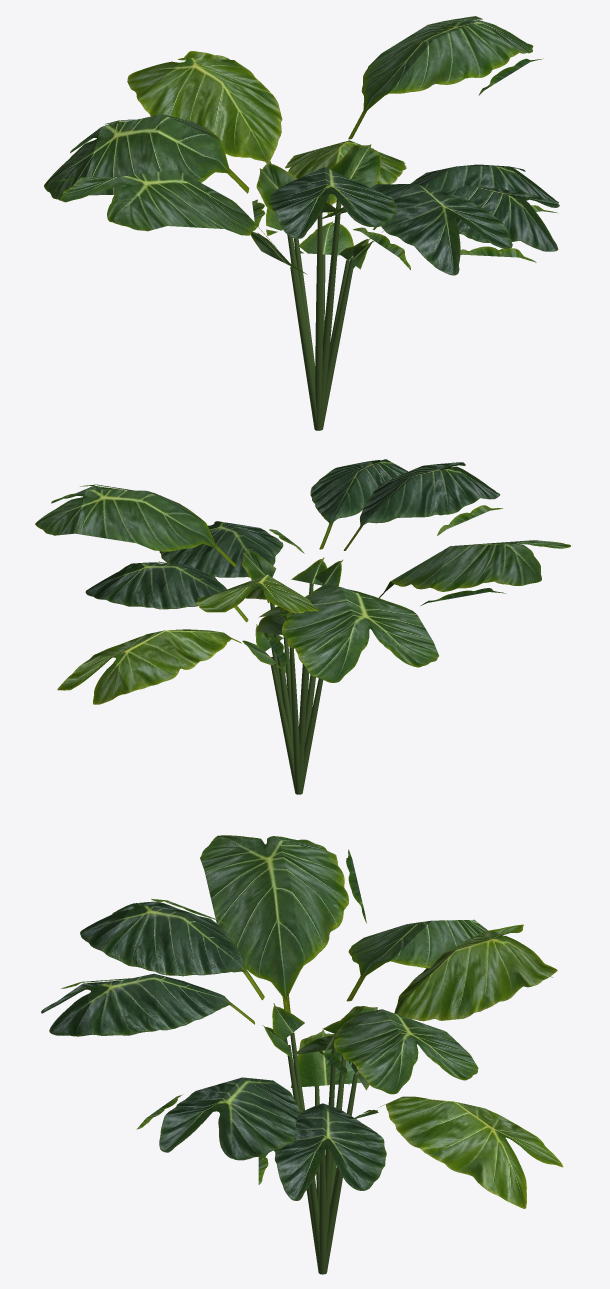
Rendered from broadleaf_02.glb.
3 renders of one model, top to bottom at view 1: azimuth 30°, elevation 25°; view 2: azimuth 150°, elevation 25°; view 3: azimuth 270°, elevation 25°, orthographic. The views are drawn at different scales.
Parts seen in each view (by area): view 1: broadleaf_02; view 2: broadleaf_02; view 3: broadleaf_02.
Part boxes in pixels (x1,y1,x2,y2): broadleaf_02: (44, 16, 559, 430); broadleaf_02: (35, 459, 570, 794); broadleaf_02: (41, 835, 563, 1274).
Bounding box in the file's own units: 2.72 × 1.5 × 2.37.
Materials: 2 (1 with a texture image).
